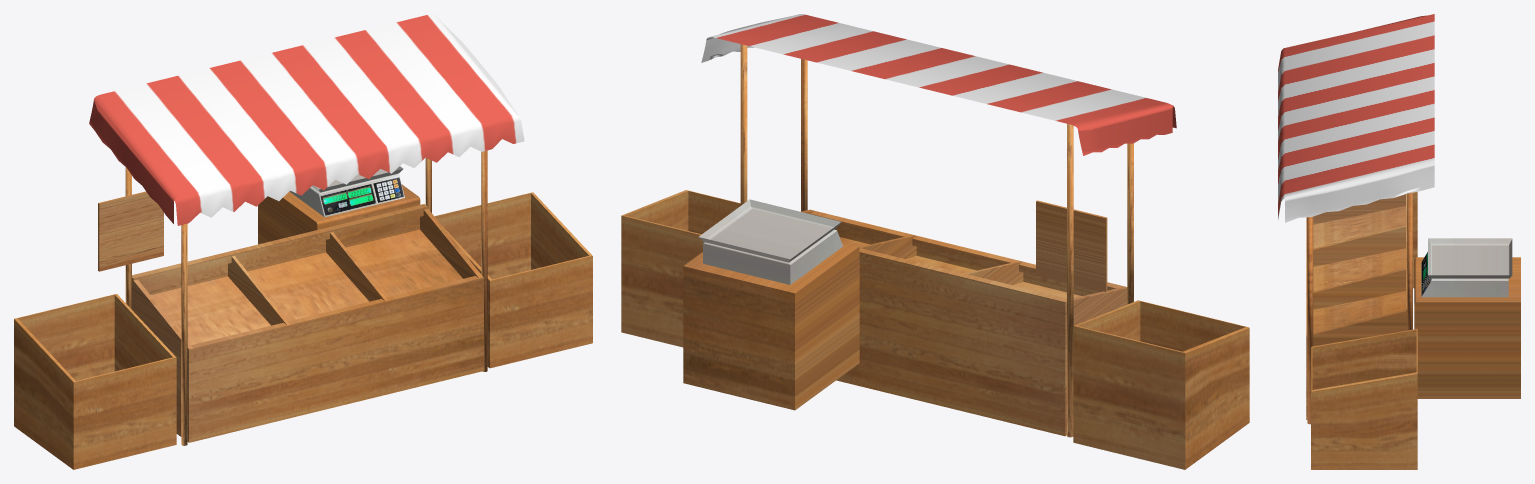
File: sgt.fbx
3 renders of one model, left to right at view 1: azimuth 30°, elevation 25°; view 2: azimuth 150°, elevation 25°; view 3: azimuth 270°, elevation 25°, orthographic. The views are drawn at different scales.
Visible parts, largest first — view 1: 水果摊; view 2: 水果摊; view 3: 水果摊.
Part boxes in pixels (x1,y1,x2,y2): 水果摊: (14,14,592,469); 水果摊: (621,14,1249,469); 水果摊: (1278,14,1520,469).
Size of the model in its own units: 478 by 266 by 216.
